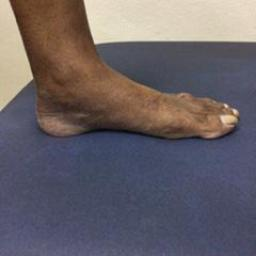Medial View -Left Foot-: (17, 41, 244, 164)
